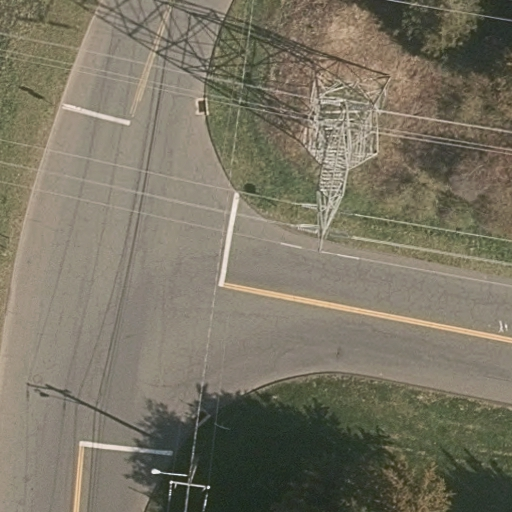DT: (158, 457, 216, 507)
TT: (280, 49, 400, 260)
